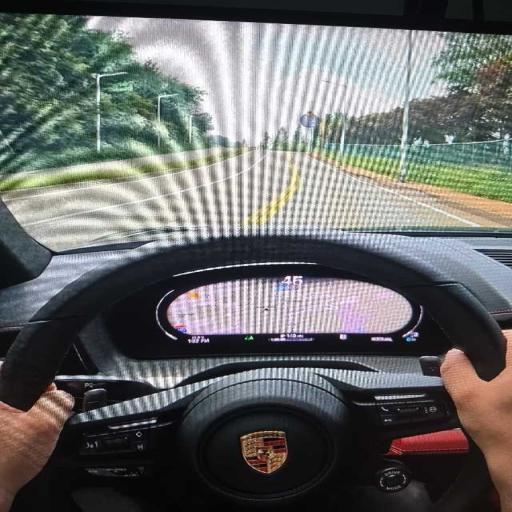car: (0, 4, 511, 511)
lane: (8, 151, 477, 250), (266, 154, 478, 232), (3, 180, 112, 204)
person: (441, 331, 511, 511), (0, 385, 74, 511)
